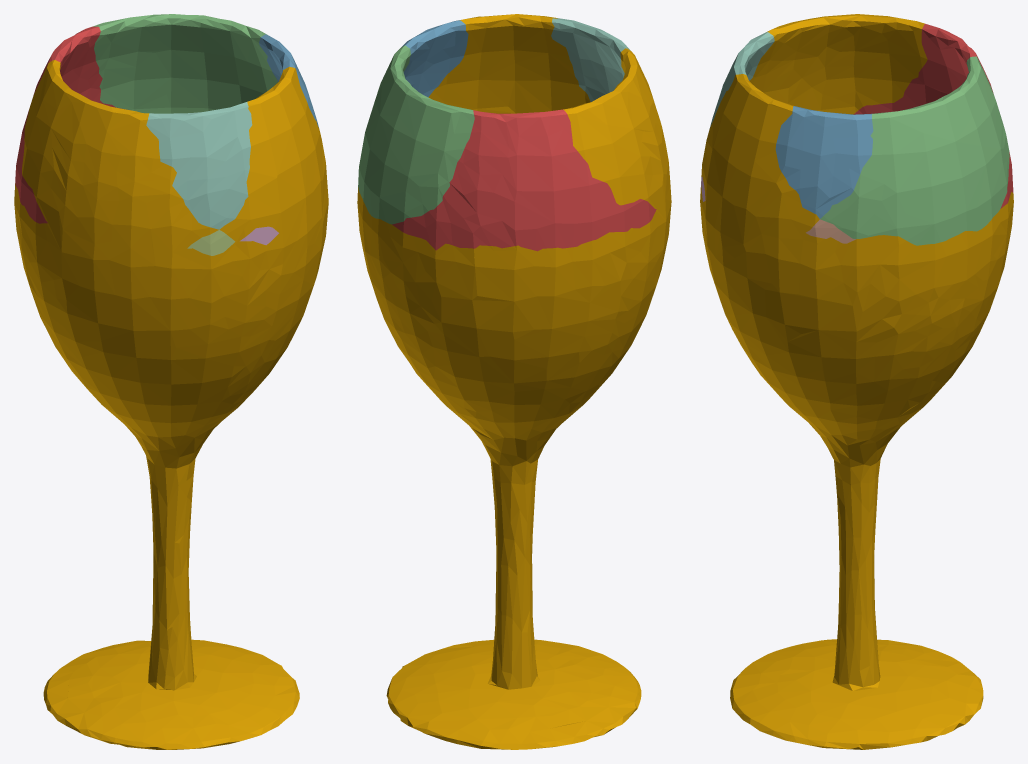
File: fractured_29_8pcs.glb
3 renders of one model, left to right at view 1: azimuth 30°, elevation 25°; view 2: azimuth 150°, elevation 25°; view 3: azimuth 270°, elevation 25°, orthographic.
Visible parts, largest first — view 1: piece_0.obj, piece_3.obj, piece_4.obj, piece_1.obj, piece_2.obj, piece_5.obj; view 2: piece_0.obj, piece_1.obj, piece_3.obj, piece_4.obj, piece_2.obj; view 3: piece_0.obj, piece_3.obj, piece_2.obj, piece_1.obj, piece_4.obj, piece_7.obj.
Part boxes in pixels (x1,y1,x2,y2): piece_0.obj: [14, 60, 328, 749]; piece_3.obj: [93, 14, 277, 113]; piece_4.obj: [146, 102, 252, 229]; piece_1.obj: [15, 26, 124, 223]; piece_2.obj: [259, 34, 318, 127]; piece_5.obj: [187, 230, 235, 255]; piece_0.obj: [357, 14, 671, 749]; piece_1.obj: [392, 109, 656, 251]; piece_3.obj: [358, 45, 474, 224]; piece_4.obj: [551, 18, 630, 101]; piece_2.obj: [402, 20, 468, 97]; piece_0.obj: [700, 14, 1013, 749]; piece_3.obj: [820, 56, 1009, 245]; piece_2.obj: [775, 106, 873, 218]; piece_1.obj: [853, 24, 1013, 208]; piece_4.obj: [709, 32, 774, 128]; piece_7.obj: [806, 219, 856, 243].
Bounding box in the file's own units: 0.4496 × 1 × 0.4495.
